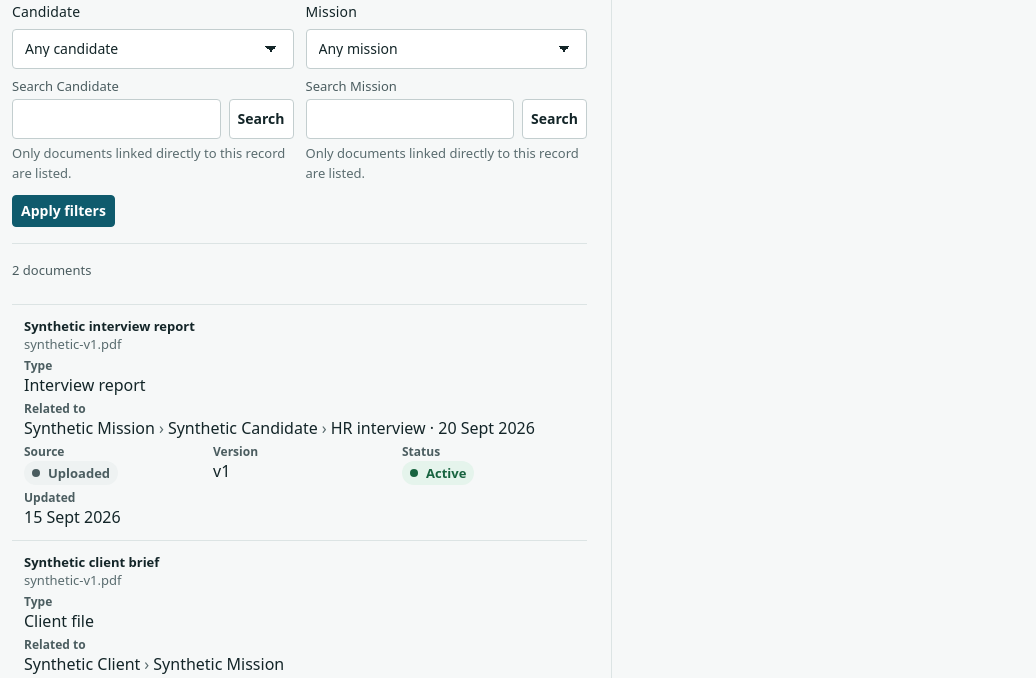
Test: DocumentsPanel presentation › shows human context labels in the library and a Related-to breadcrumb in detail
(page scrolled)
Check: the text "Client file" is shown, box left=24, top=593, right=197, bottom=632
Check: the row "Synthetic client brief" is shown, box left=24, top=653, right=140, bottom=675
Click the button "Synthetic interview report": (109, 326) left=24, top=317, right=195, bottom=335
(page scrolled)
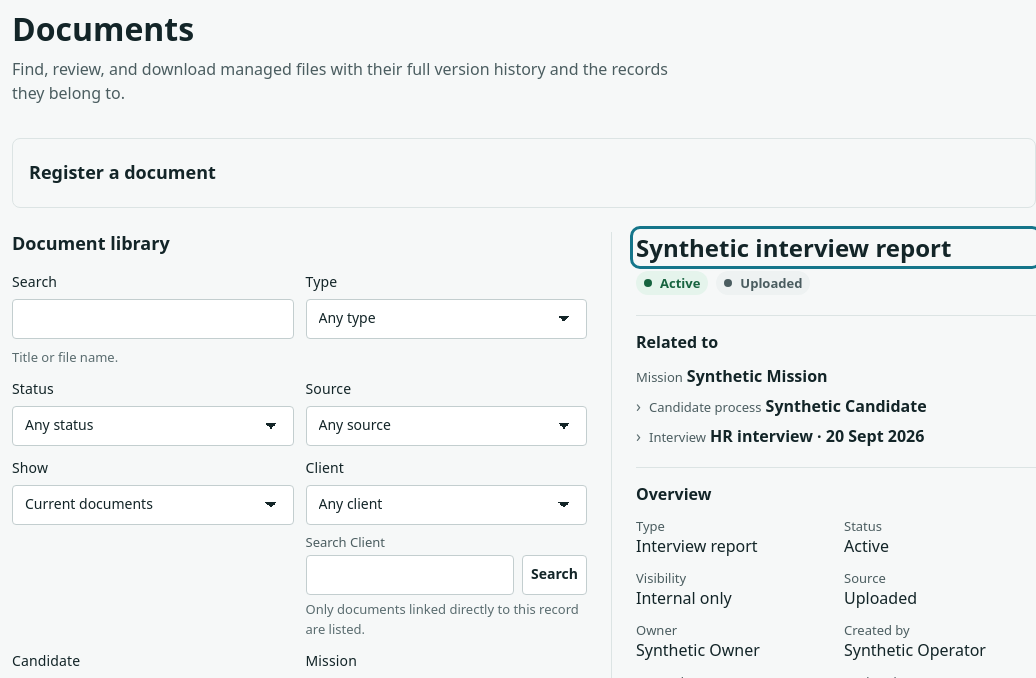
Check: the heading "Synthetic interview report" is shown, box left=636, top=231, right=951, bottom=264
